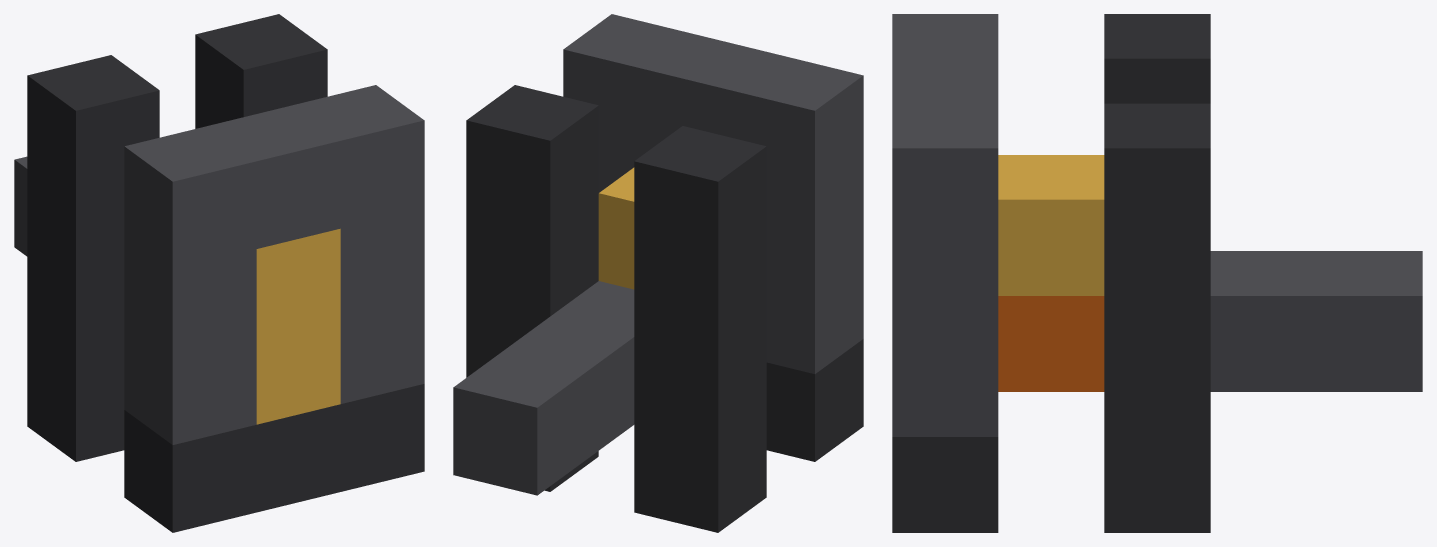
Rendered from prop_mine_lantern_voxel.fbx.
The picture shows the model from 3 angles, left to right: view 1: azimuth 30°, elevation 25°; view 2: azimuth 150°, elevation 25°; view 3: azimuth 270°, elevation 25°; orthographic projection. The views are drawn at different scales.
Parts seen in each view (by area): view 1: prop_mine_lantern_voxel; view 2: prop_mine_lantern_voxel; view 3: prop_mine_lantern_voxel.
Part boxes in pixels (left/top/right/bottom): prop_mine_lantern_voxel: left=14, top=14, right=424, bottom=532; prop_mine_lantern_voxel: left=453, top=14, right=863, bottom=532; prop_mine_lantern_voxel: left=892, top=14, right=1422, bottom=532.
Bounding box in the file's own units: 0.375 × 0.5 × 0.625.
